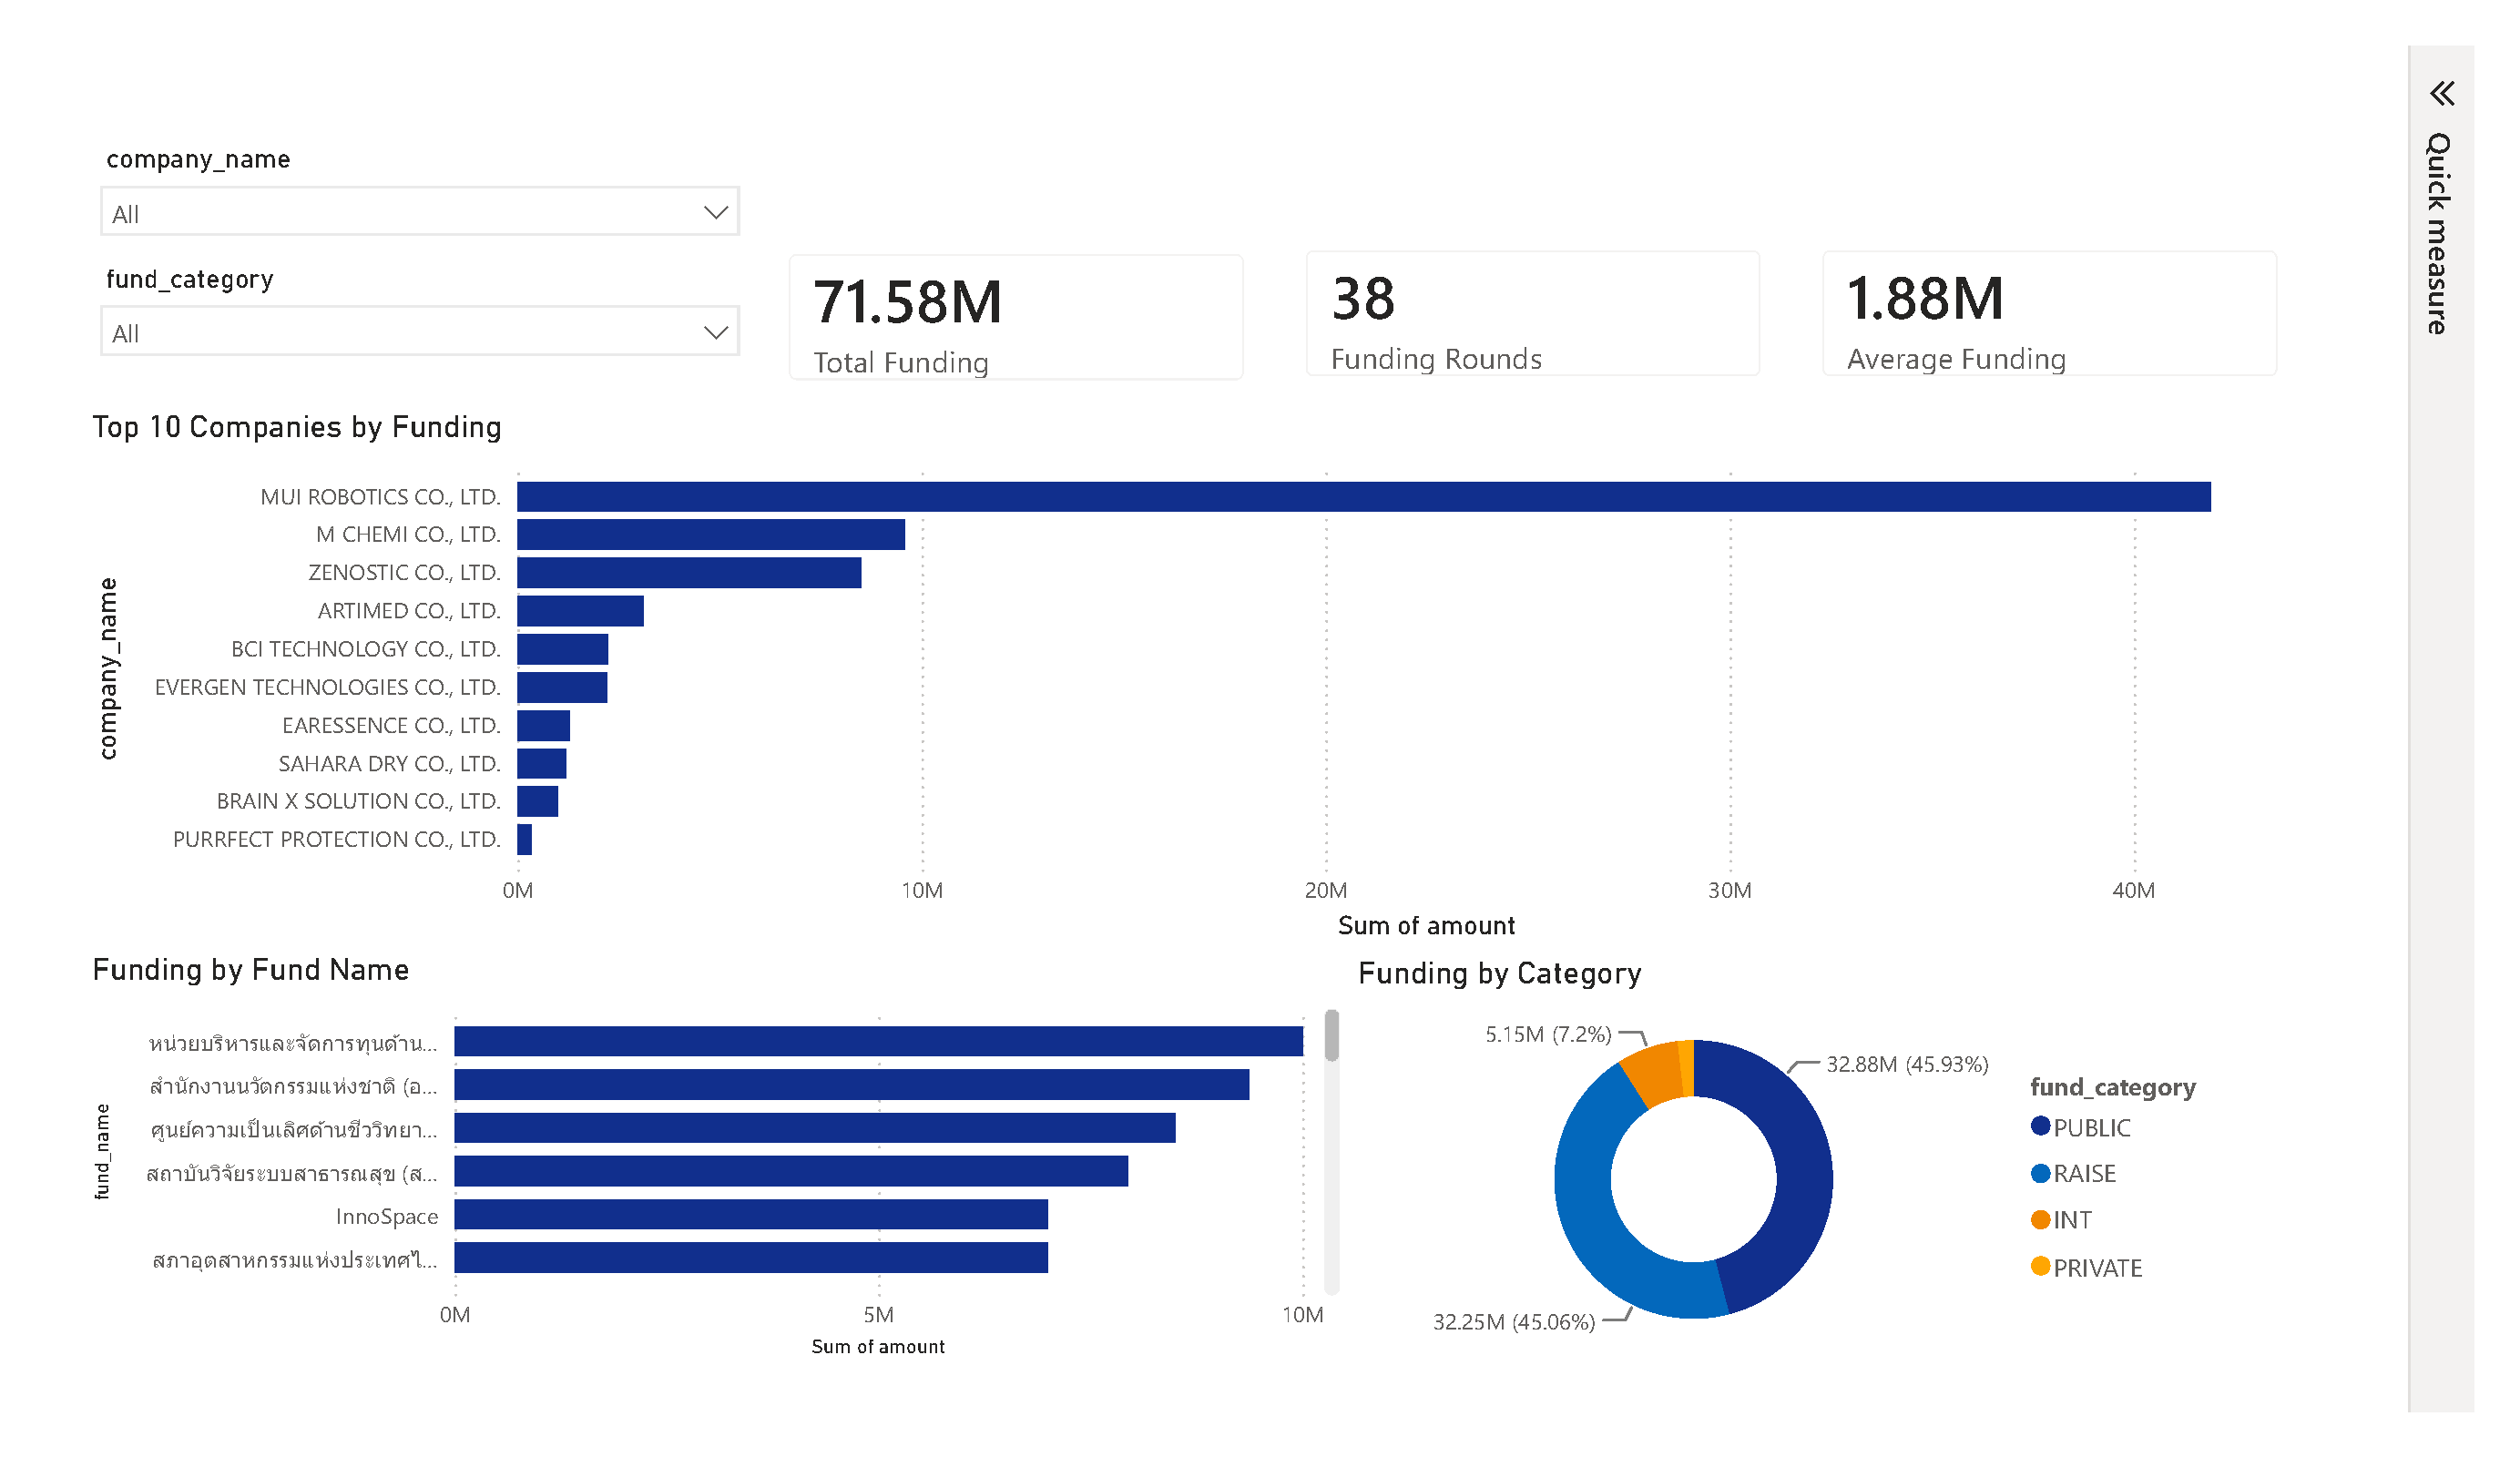

The dashboard page shown, as its layout file describes it:
{"tool":"powerbi","page":{"name":"Funding Analysis","canvas":[1280,720],"ordinal":2},"visuals":[{"type":"slicer","fields":{"Values":["public company_funding_summary.fund_category"]},"box":[20,103.3,365.6,66.7],"z":0},{"type":"slicer","fields":{"Values":["public company_funding_summary.company_name"]},"box":[20,37.8,365.6,65.6],"z":1000},{"type":"cardVisual","fields":{"Data":["Sum(public company_funding_summary.amount)"]},"box":[386,86,280,102],"z":2000},{"type":"cardVisual","fields":{"Data":["CountNonNull(public company_funding_summary.amount)"]},"box":[666,84,280,102],"z":3000},{"type":"cardVisual","fields":{"Data":["Avg(public company_funding_summary.amount)"]},"box":[946,84,280,102],"z":4000},{"type":"donutChart","title":"Funding by Category","fields":{"Category":["public company_funding_summary.fund_category"],"Y":["Sum(public company_funding_summary.amount)"]},"box":[706,482,480,226],"z":5000},{"type":"clusteredBarChart","title":"Funding by Fund Name","fields":{"Category":["public company_funding_summary.fund_name"],"Y":["Sum(public company_funding_summary.amount)"]},"box":[20,480,686,226],"z":6000},{"type":"clusteredBarChart","title":"Top 10 Companies by Funding","fields":{"Category":["public company_funding_summary.company_name"],"Y":["Sum(public company_funding_summary.amount)"]},"box":[20,186,1238,294],"z":7000}]}

Visuals, with their boxes on the page's 1280x720 design canvas (x1, y1, x2, y2). These are canvas units, not pixel positions in the 2520x1457 screenshot, which may show the page scaled, cropped or inside an application window:
slicer - public company_funding_summary.fund_category: [left=20, top=103, right=386, bottom=170]
slicer - public company_funding_summary.company_name: [left=20, top=38, right=386, bottom=103]
cardVisual - Sum(public company_funding_summary.amount): [left=386, top=86, right=666, bottom=188]
cardVisual - CountNonNull(public company_funding_summary.amount): [left=666, top=84, right=946, bottom=186]
cardVisual - Avg(public company_funding_summary.amount): [left=946, top=84, right=1226, bottom=186]
"Funding by Category" donutChart: [left=706, top=482, right=1186, bottom=708]
"Funding by Fund Name" clusteredBarChart: [left=20, top=480, right=706, bottom=706]
"Top 10 Companies by Funding" clusteredBarChart: [left=20, top=186, right=1258, bottom=480]
